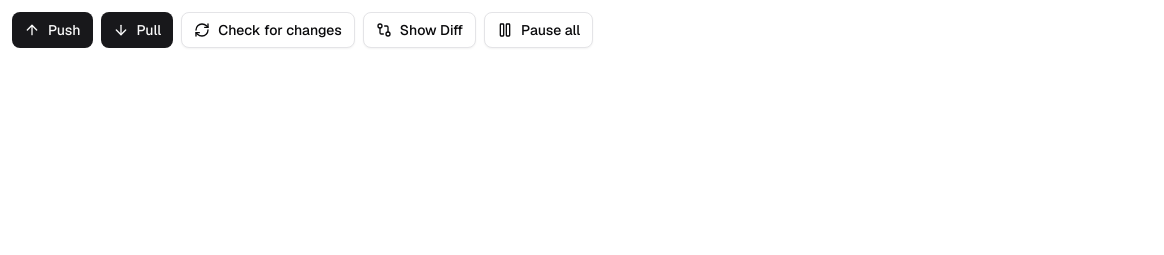
SyncControls diff delegation to ProfileDiffTabs › renders ProfileDiffTabs when Show Diff is clicked and aggregate data available
Click the button "Show Diff".
click(419, 30)  # box [363,12,476,48]
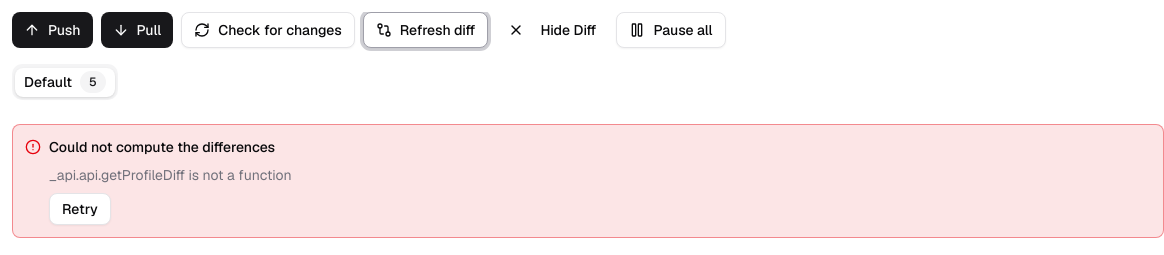
Result: the element with test id "profile-diff-tabs" is shown
